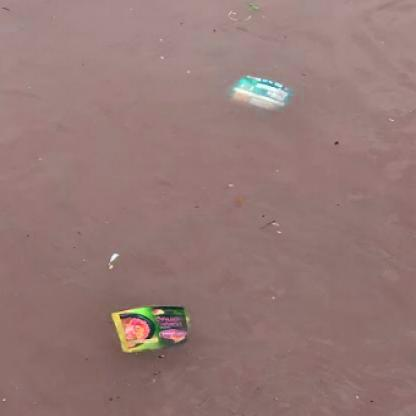Trash: (111, 302, 190, 354), (226, 69, 295, 116)
